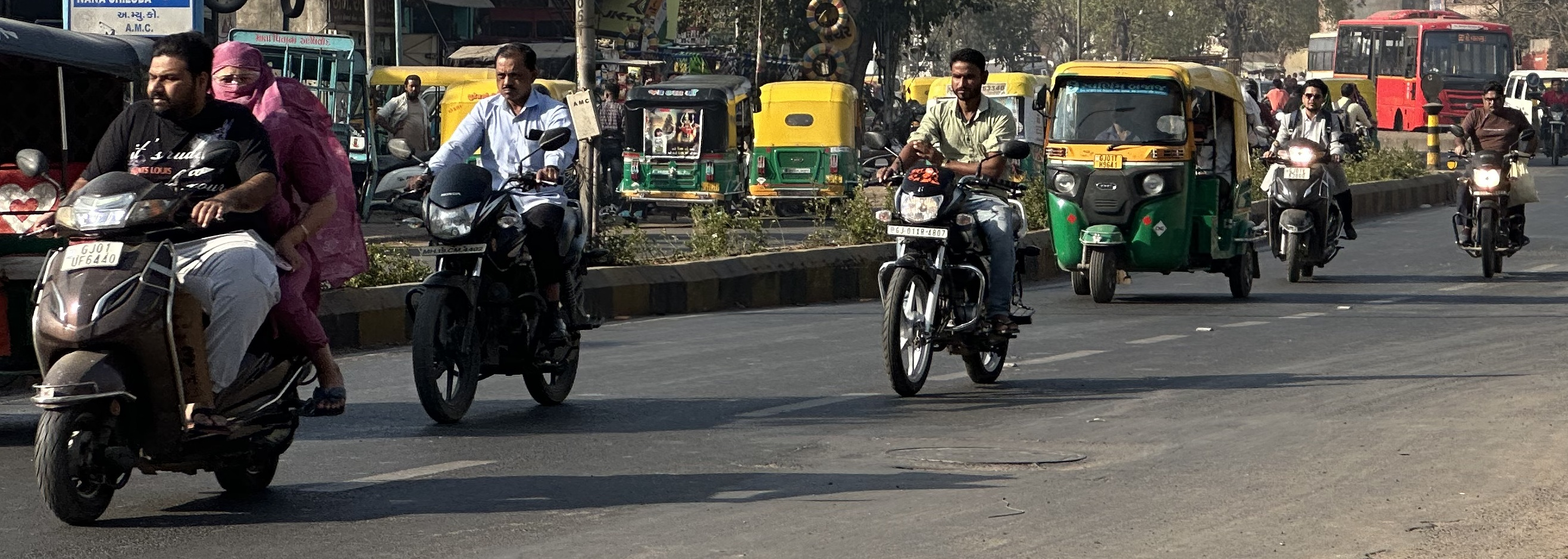BikeWithRider: (14, 36, 368, 528), (377, 36, 620, 430), (859, 41, 1047, 407), (1255, 73, 1370, 287), (1431, 79, 1548, 287)
NoHelmet: (136, 37, 221, 126), (200, 32, 280, 116), (486, 40, 546, 106), (943, 42, 991, 106), (1294, 76, 1330, 117), (1476, 79, 1512, 118)
